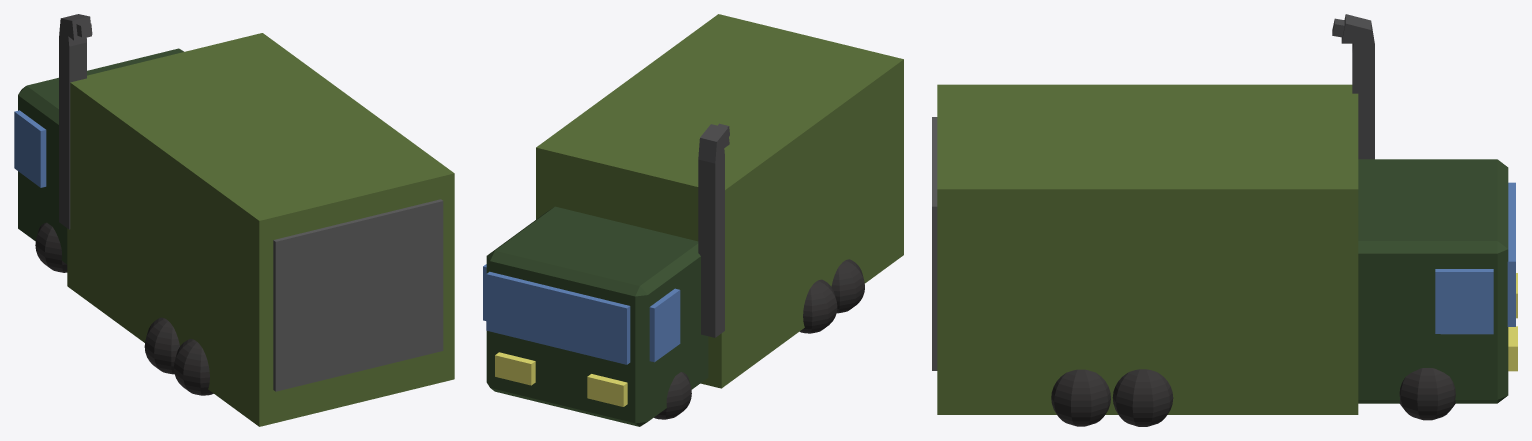
The model's file is car1.fbx.
3 views of the same model, side by side, from view 1: azimuth 30°, elevation 25°; view 2: azimuth 150°, elevation 25°; view 3: azimuth 270°, elevation 25° (orthographic). The views are drawn at different scales.
Parts seen in each view (by area): view 1: Cube.001, Cube.006, Cube.002, Cube.005, Cube.003, Sphere.002, Sphere.001, Sphere; view 2: Cube.001, Cube.002, Cube, Cube.005, Cube.003, Sphere.001, Sphere.002, Cube.007, Cube.008, Sphere; view 3: Cube.001, Cube.002, Cube.004, Cube.005, Sphere.003, Sphere.004, Sphere.005, Cube.006, Cube.
Boxes of the visible parts, x1,y1,x2,y2 form: Cube.001: (67,33,454,426); Cube.006: (273,199,443,391); Cube.002: (18,48,183,264); Cube.005: (59,14,92,229); Cube.003: (14,110,46,187); Sphere.002: (174,339,213,395); Sphere.001: (144,317,179,374); Sphere: (35,222,67,272); Cube.001: (536,14,903,388); Cube.002: (486,206,708,426); Cube: (486,271,630,364); Cube.005: (698,123,729,337); Cube.003: (649,288,680,362); Sphere.001: (799,279,837,333); Sphere.002: (831,259,864,313); Cube.007: (495,352,535,385); Cube.008: (587,374,627,406); Sphere: (654,372,691,419); Cube.001: (937,84,1358,414); Cube.002: (1358,159,1508,403); Cube.004: (1435,269,1493,334); Cube.005: (1332,14,1374,159); Sphere.003: (1112,369,1173,426); Sphere.004: (1051,369,1110,426); Sphere.005: (1399,368,1455,420); Cube.006: (932,117,937,370); Cube: (1507,182,1515,326).
Size of the model in its own units: 272 by 320 by 546.
